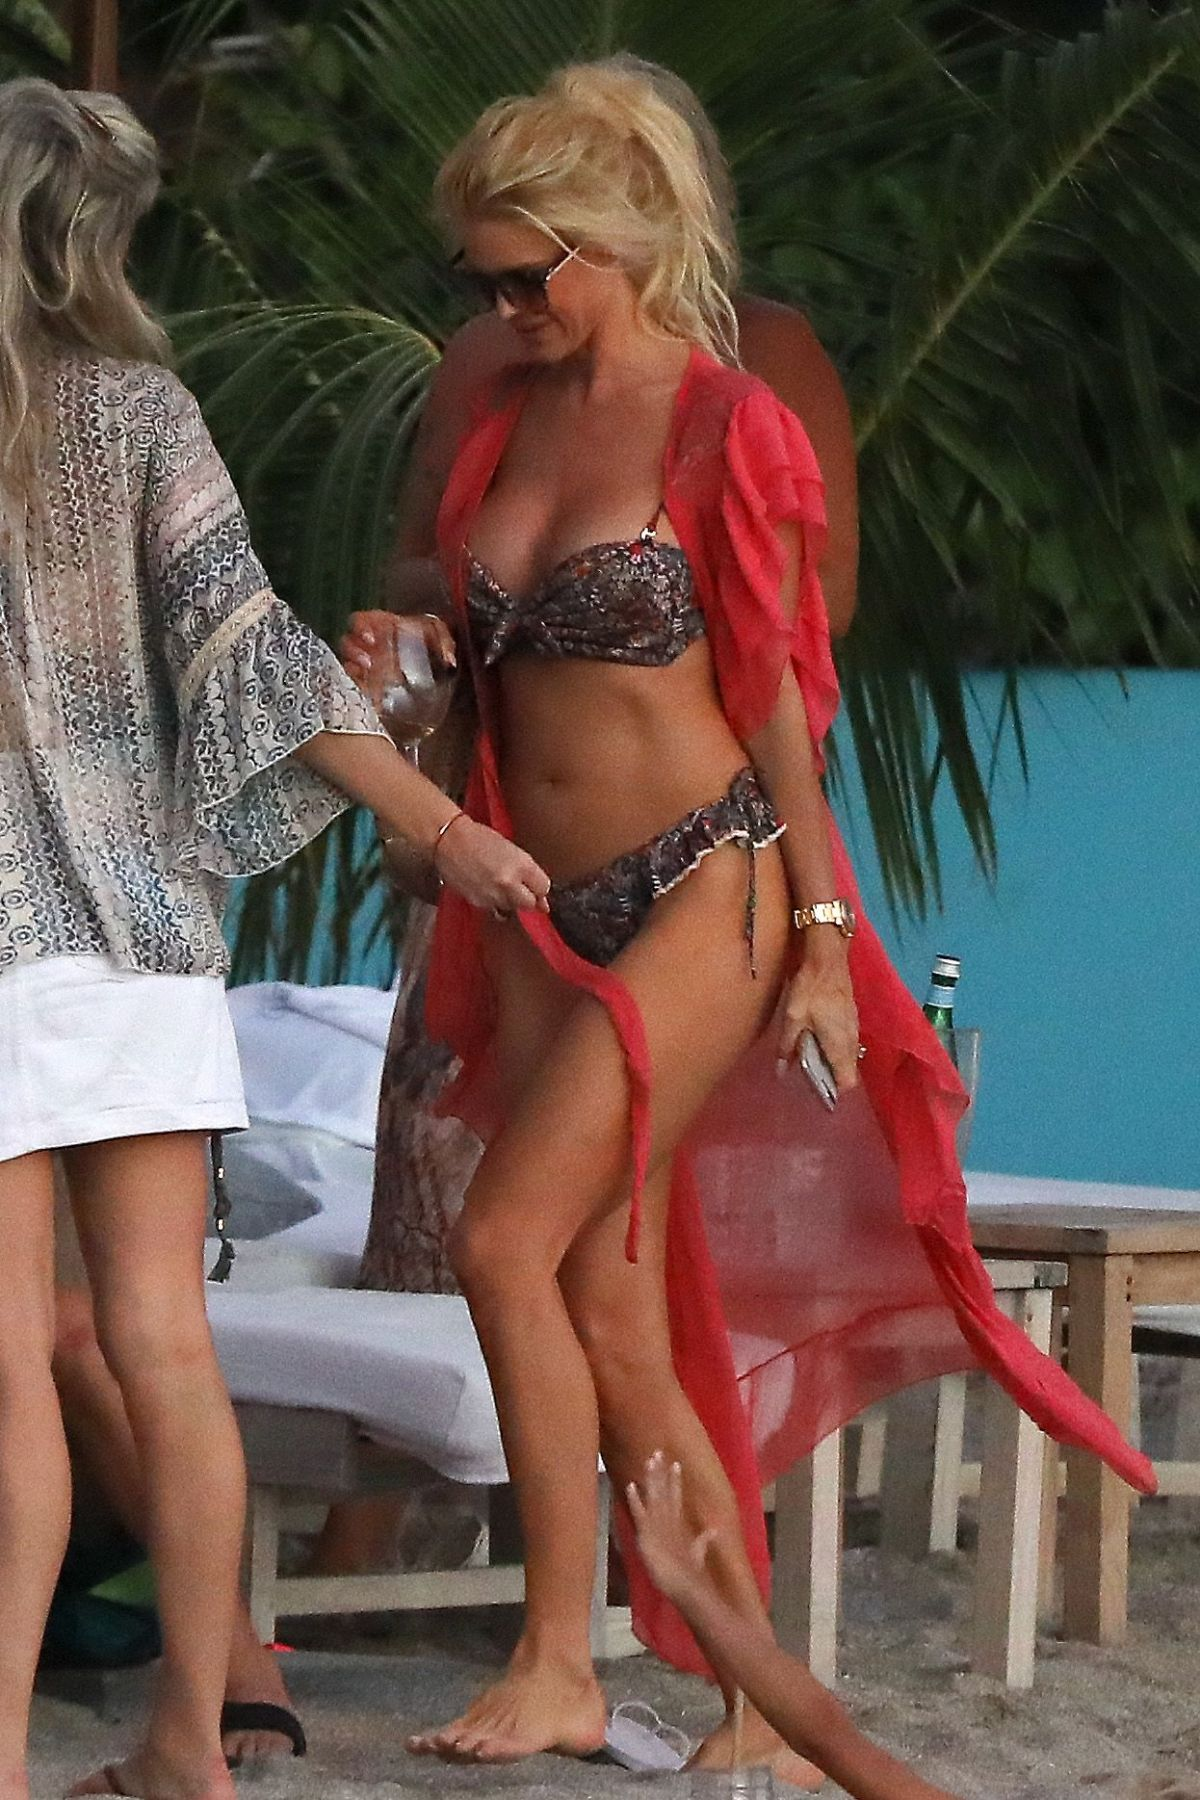Person: (345, 44, 895, 1791), (10, 64, 549, 1800)
